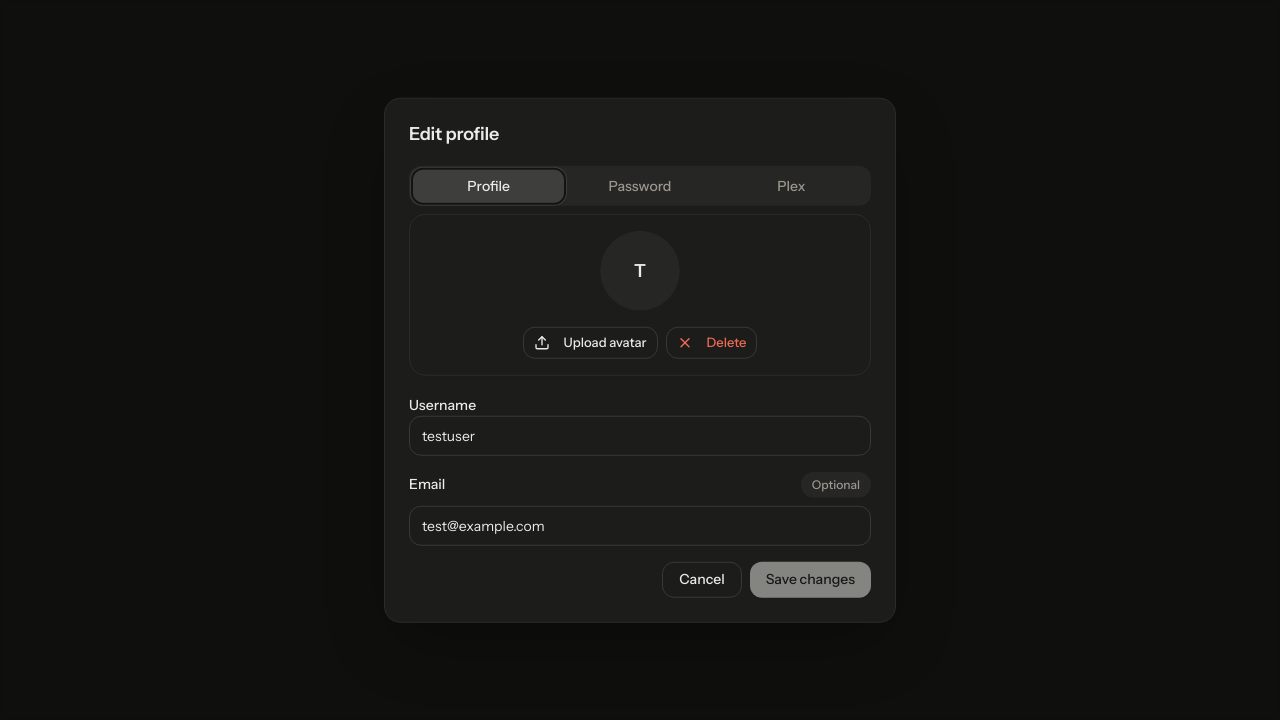
Test: EditProfileModal › the avatar › removes an existing avatar
Check: the heading "Edit profile" is shown, box [409,123,499,145]
Step 1. Click the button "Delete" → [711, 342], box [666,326,757,358]
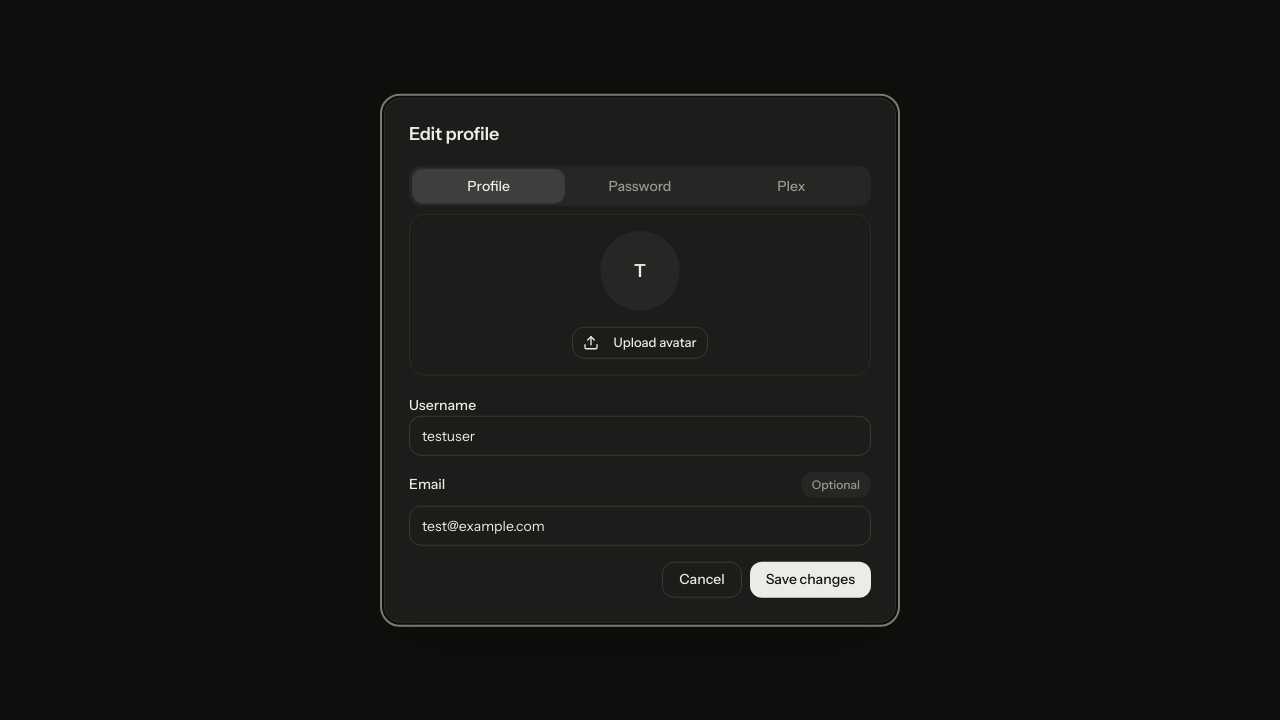
Check: the button "Delete" is gone
